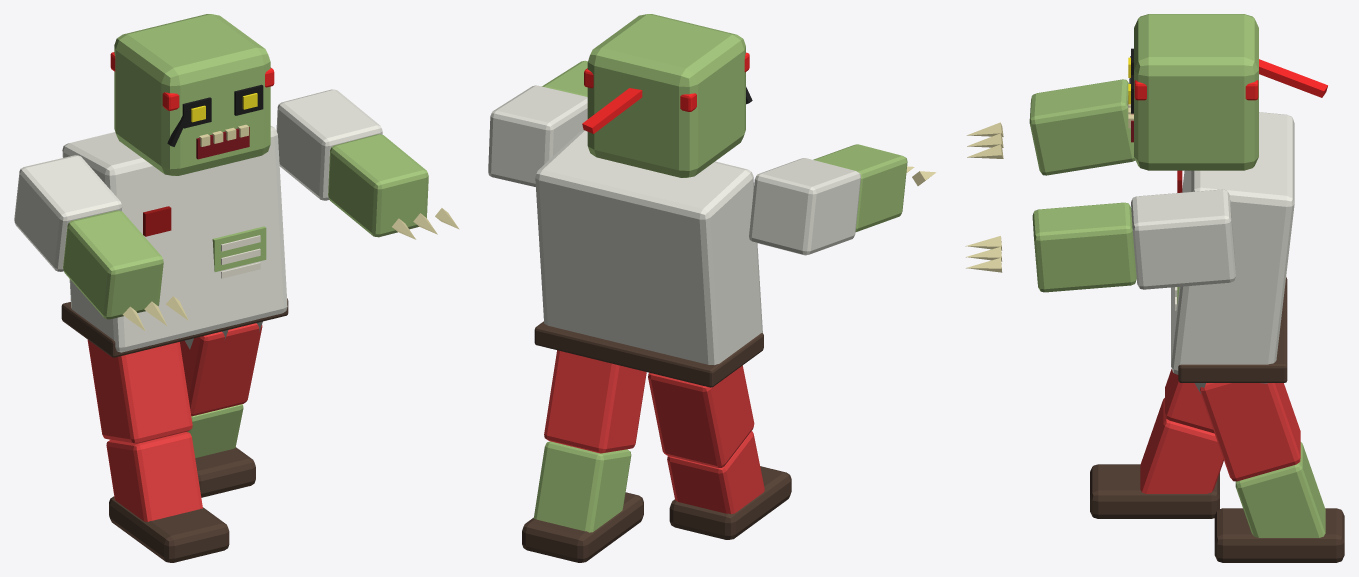
The model's file is zombi_corredor.glb.
3 renders of one model, left to right at view 1: azimuth 30°, elevation 25°; view 2: azimuth 150°, elevation 25°; view 3: azimuth 270°, elevation 25°, orthographic. The views are drawn at different scales.
Visible parts, largest first — view 1: Torso, Head, LeftLeg, LeftArm, RightArm, RightLeg; view 2: Torso, Head, RightLeg, LeftLeg, LeftArm, RightArm; view 3: Torso, Head, RightArm, RightLeg, LeftLeg, LeftArm.
Part boxes in pixels (x1=…): Torso: x1=61, y1=126, x2=288, y2=357; Head: x1=110, y1=14, x2=274, y2=175; LeftLeg: x1=87, y1=340, x2=229, y2=562; LeftArm: x1=14, y1=155, x2=188, y2=330; RightArm: x1=276, y1=89, x2=459, y2=239; RightLeg: x1=180, y1=323, x2=262, y2=497; Torso: x1=534, y1=130, x2=763, y2=387; Head: x1=582, y1=14, x2=752, y2=177; RightLeg: x1=522, y1=350, x2=646, y2=562; LeftLeg: x1=648, y1=365, x2=791, y2=539; LeftArm: x1=749, y1=144, x2=936, y2=255; RightArm: x1=488, y1=60, x2=587, y2=186; Torso: x1=1171, y1=112, x2=1294, y2=393; Head: x1=1128, y1=14, x2=1327, y2=170; RightArm: x1=965, y1=189, x2=1235, y2=292; RightLeg: x1=1200, y1=383, x2=1344, y2=562; LeftLeg: x1=1090, y1=369, x2=1223, y2=518; LeftArm: x1=967, y1=78, x2=1135, y2=175.
Bounding box in the file's own units: 3.97 × 5.48 × 3.83.
1 material, 1 textured.
